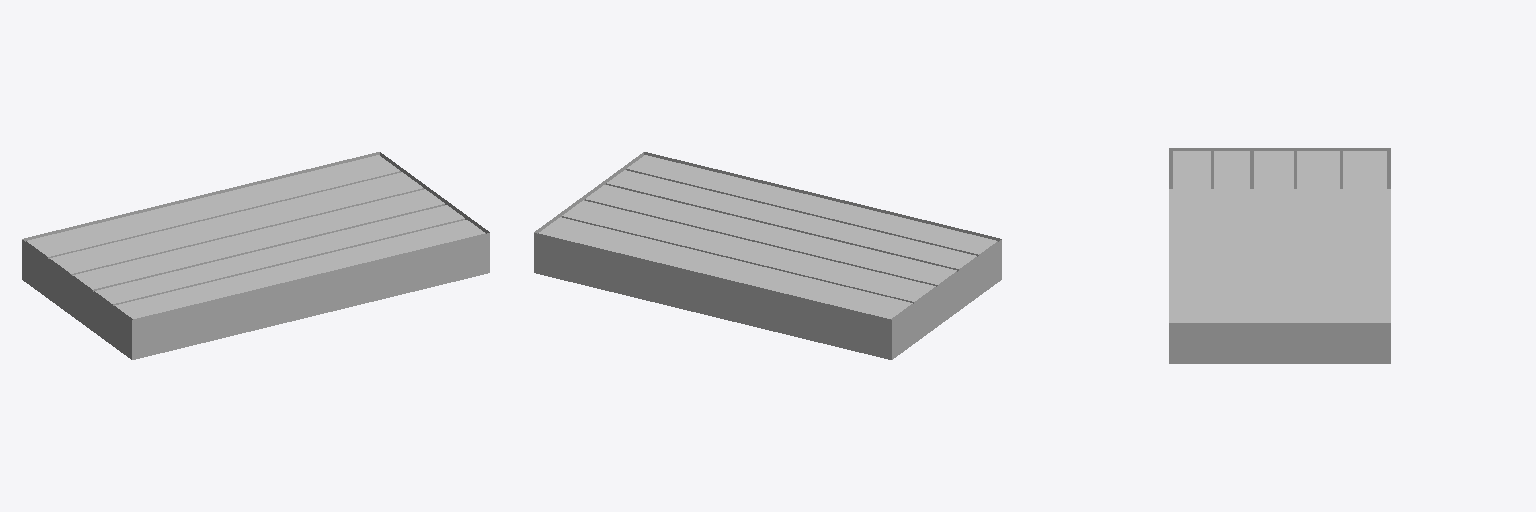
File: f_BookShelf.obj
The picture shows the model from 3 angles: view 1: azimuth 30°, elevation 25°; view 2: azimuth 150°, elevation 25°; view 3: azimuth 270°, elevation 25°; orthographic projection.
Parts seen in each view (by area): view 1: Bookshelf; view 2: Bookshelf; view 3: Bookshelf.
Part boxes in pixels (x1,y1,x2,y2): Bookshelf: (22, 152, 489, 359); Bookshelf: (534, 152, 1001, 359); Bookshelf: (1169, 148, 1390, 363).
Bounding box in the file's own units: 9.57 × 1.03 × 5.12.